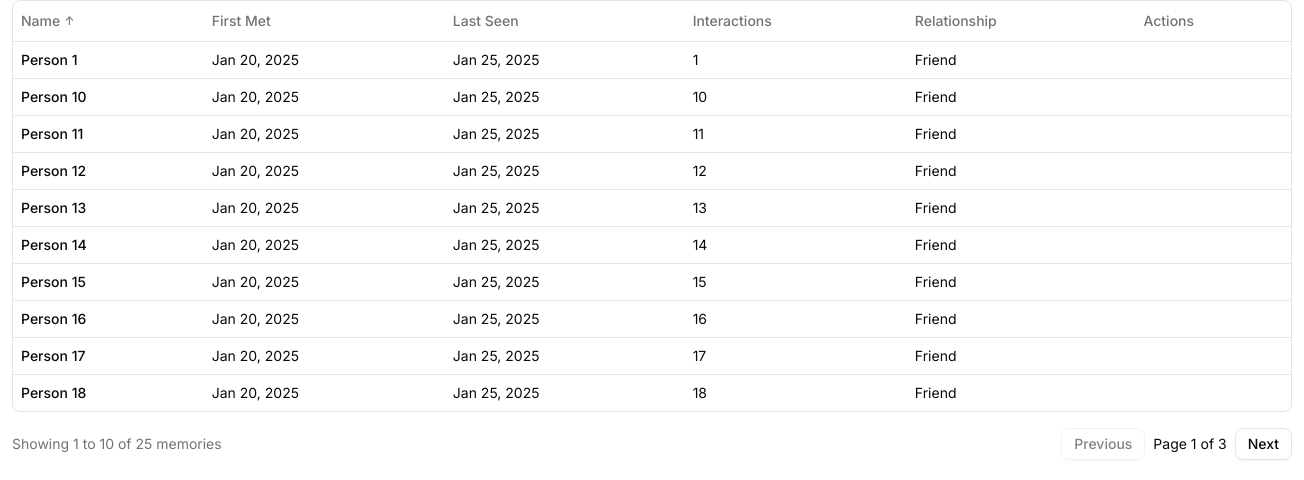
Test case: Memory Table › pagination › should navigate to previous page
// Go to page 2 first
Click the button "Next" at (1263, 444), box [1235,428,1292,460]
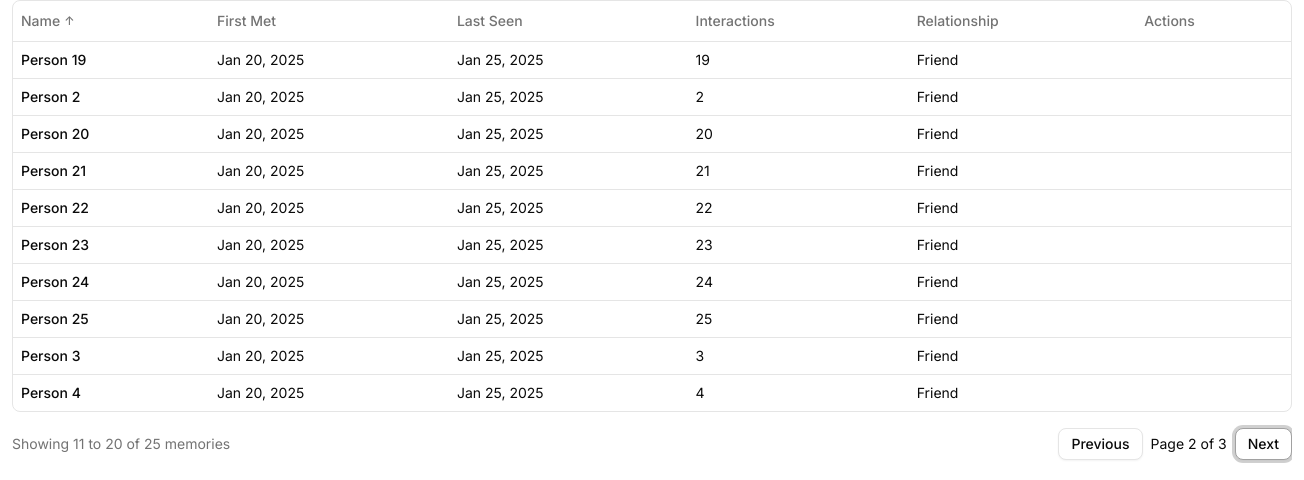
// Then go back to page 1
Click the button "Previous" at (1100, 444), box [1058,428,1142,460]
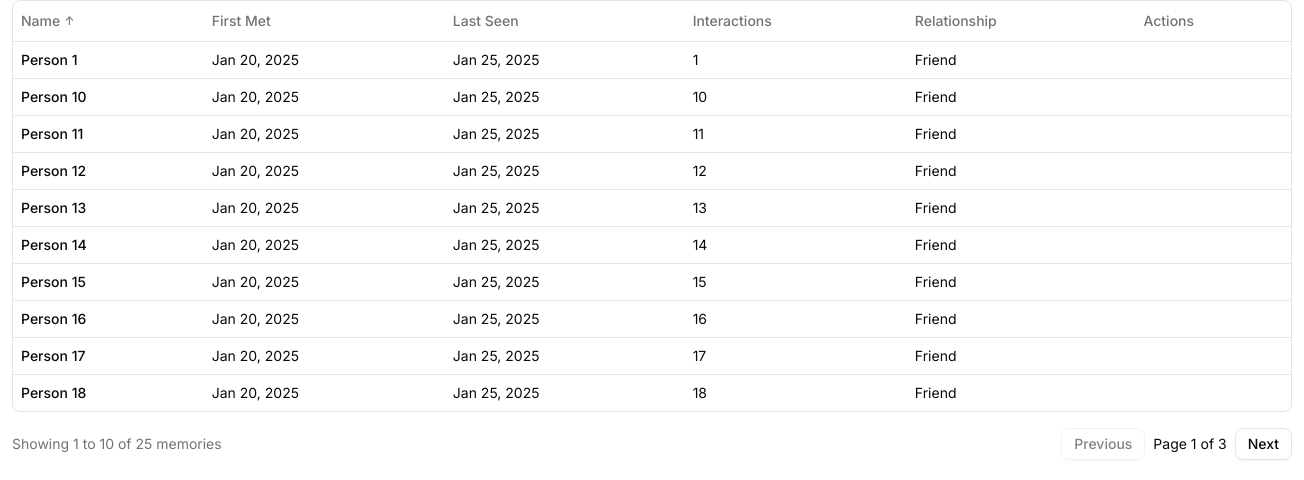
Expected: the text "Page 1 of 3" is shown, [1153,434,1227,454]
